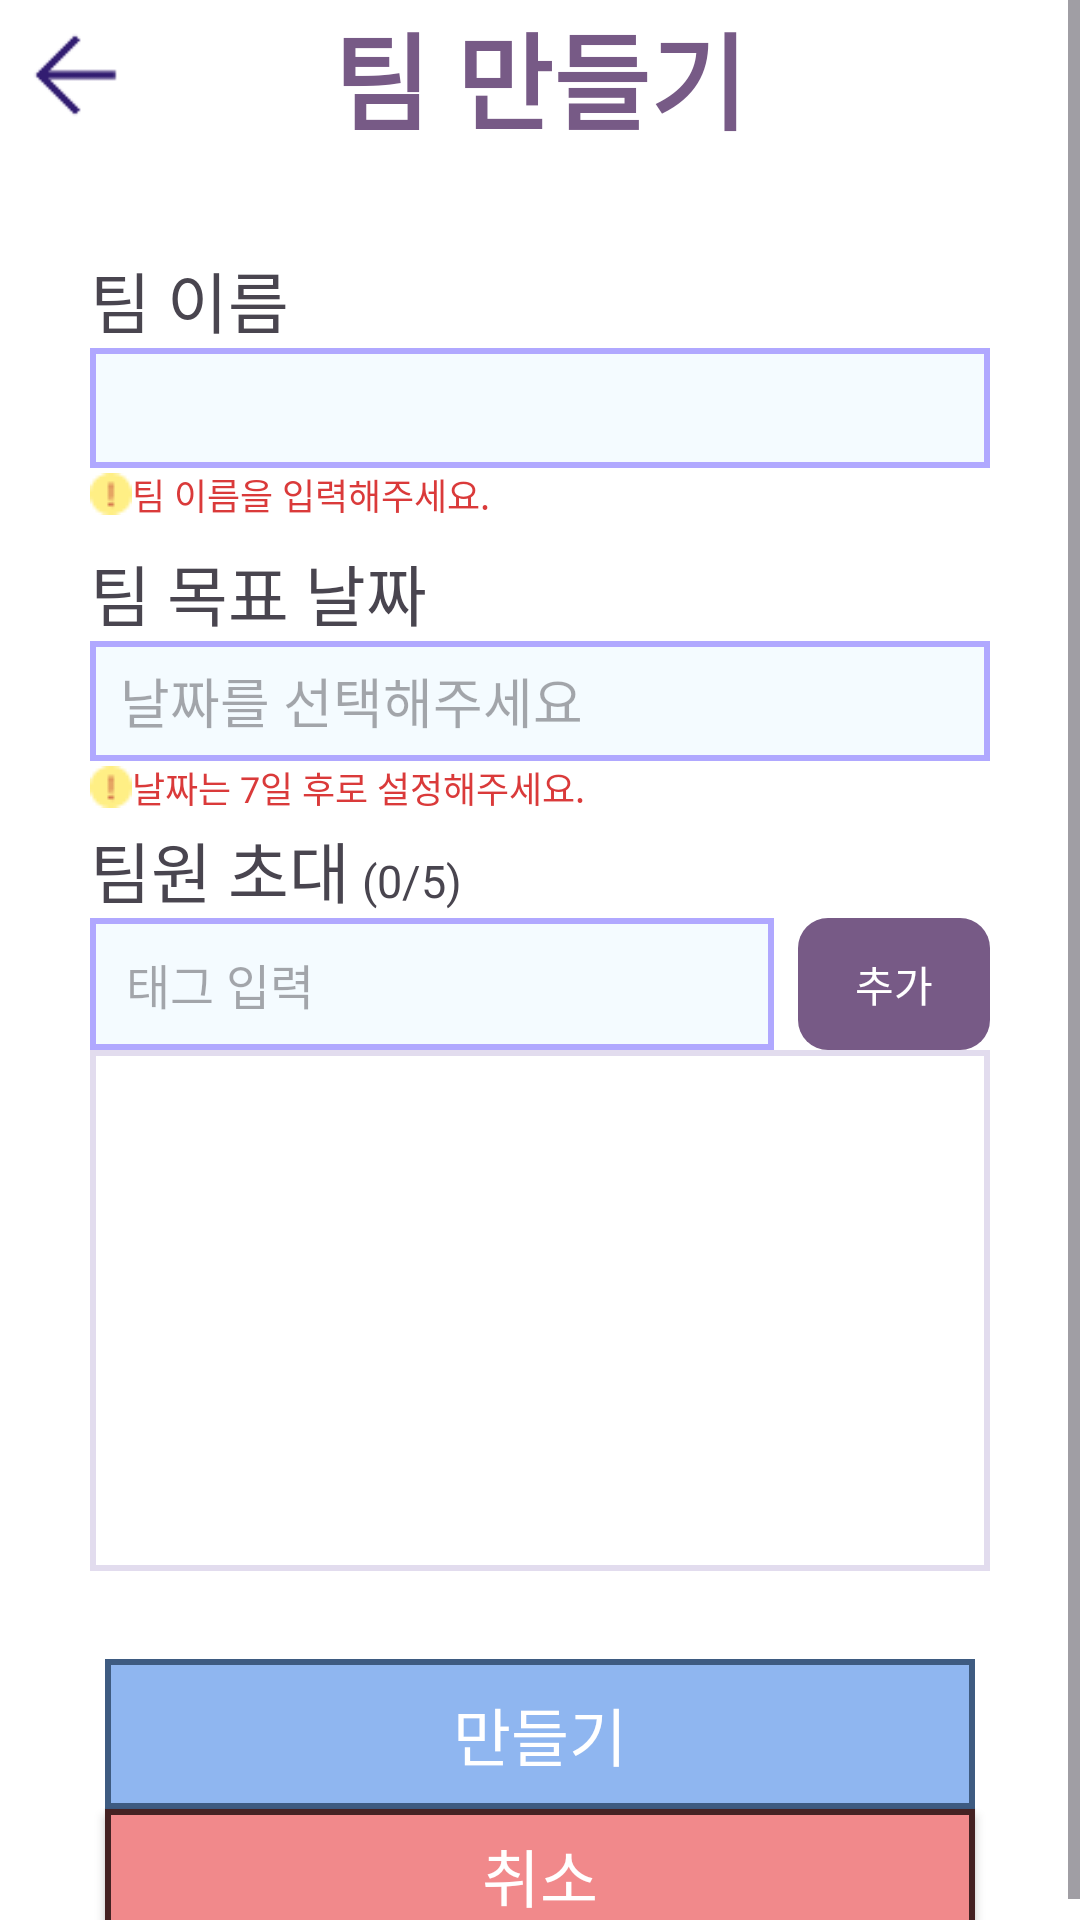

Where to tap for icons on this 1080px x 1920px app screen, as (x,y):
pic arrowback: (76,75)
